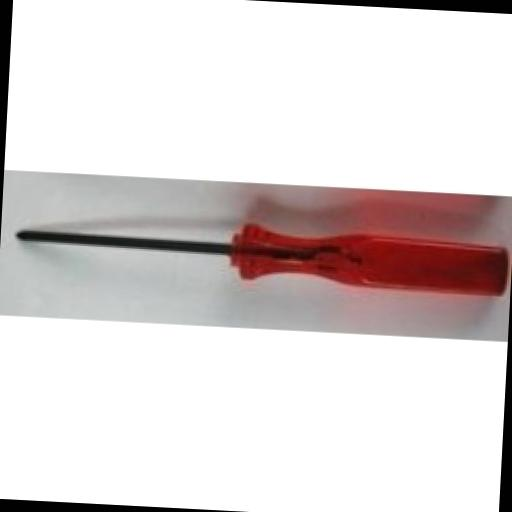screwdriver: (12, 211, 510, 299)
